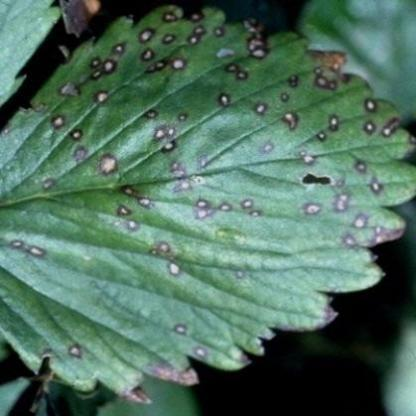Strawberry_Leaf_Spot: (0, 5, 415, 406)
